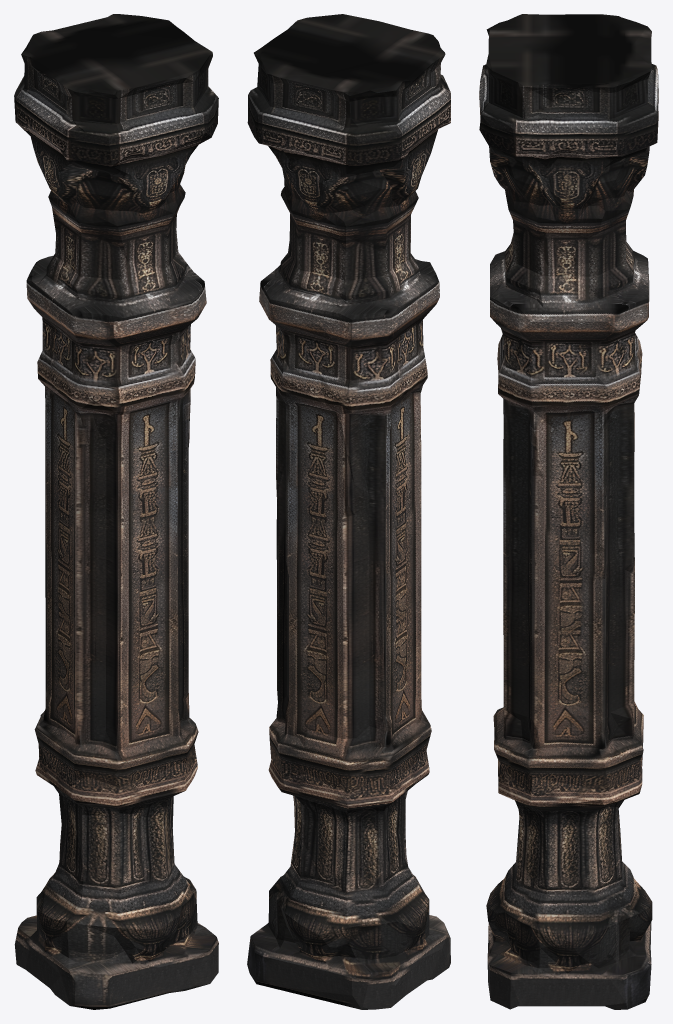
File: HC_STHall_Wallcolumn_02.fbx
3 renders of one model, left to right at view 1: azimuth 30°, elevation 25°; view 2: azimuth 150°, elevation 25°; view 3: azimuth 270°, elevation 25°, orthographic.
Parts seen in each view (by area): view 1: HC_STHall_Wallcolumn_02; view 2: HC_STHall_Wallcolumn_02; view 3: HC_STHall_Wallcolumn_02.
Boxes of the visible parts, x1,y1,x2,y2 form: HC_STHall_Wallcolumn_02: (14, 14, 218, 1009); HC_STHall_Wallcolumn_02: (247, 14, 450, 1009); HC_STHall_Wallcolumn_02: (479, 14, 658, 1009).
Bounding box in the file's own units: 0.3477 × 0.3468 × 1.98.
